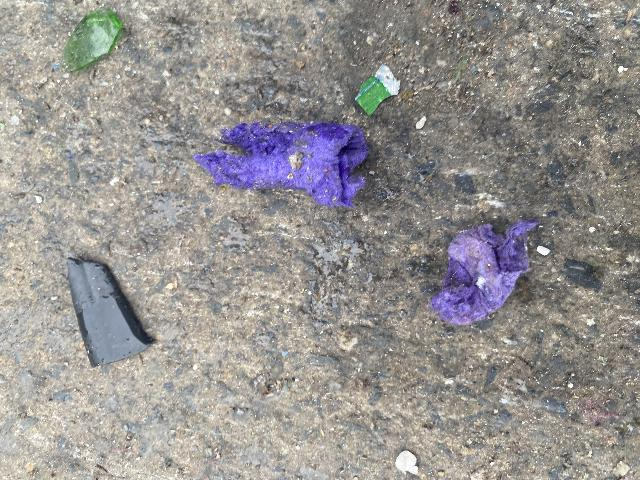Cam: (60, 9, 125, 75), (355, 75, 391, 114)
Kagit: (194, 120, 371, 206), (431, 218, 543, 330)
Plastik: (65, 255, 154, 367)
